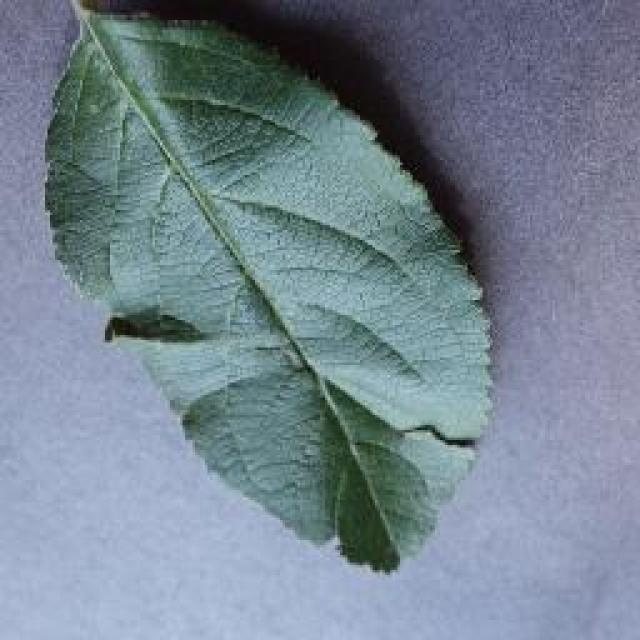apple healthy: (40, 0, 497, 572)
